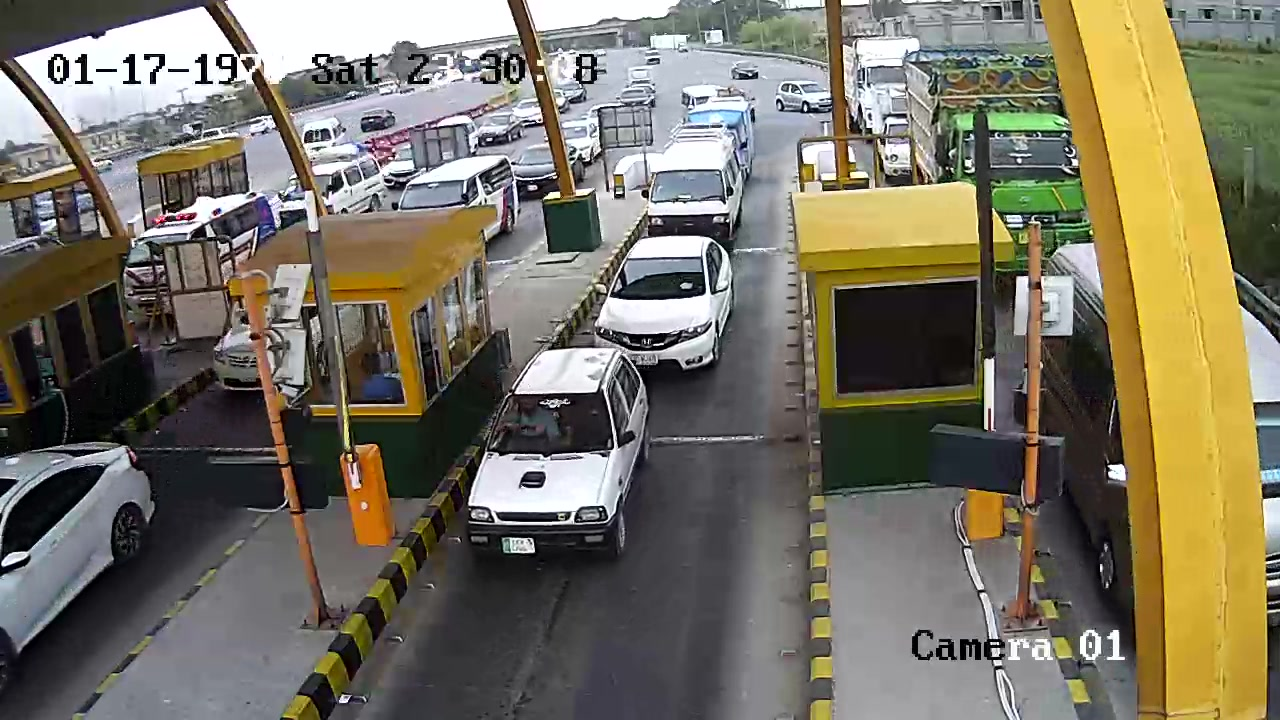F1: (452, 349, 663, 581), (583, 231, 742, 379)
